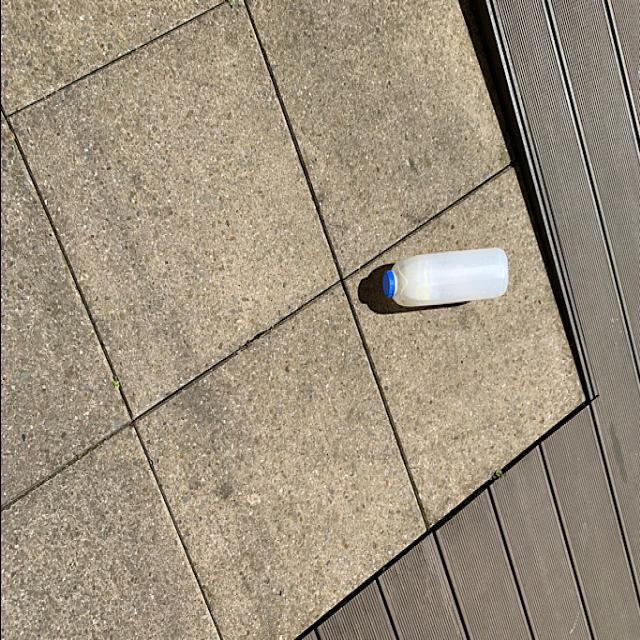HDPEM: (382, 240, 518, 322)
